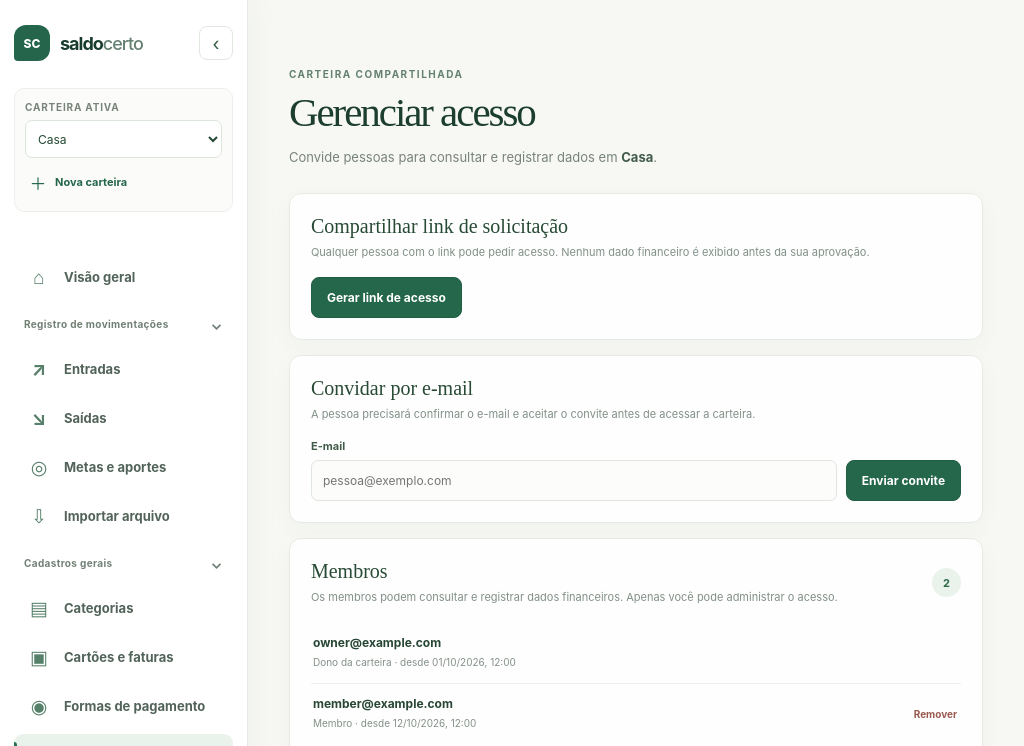
it: wallet sharing management › invites by email and shows pending invites and members
The image size is (1024, 746).
Expected: the text "member@example.com" is shown, x1=313 y1=696 x2=476 y2=711
Step 1. Type "new@example.com" into the field labelled "E-mail" → x=574, y=480, box x1=311 y1=460 x2=837 y2=501
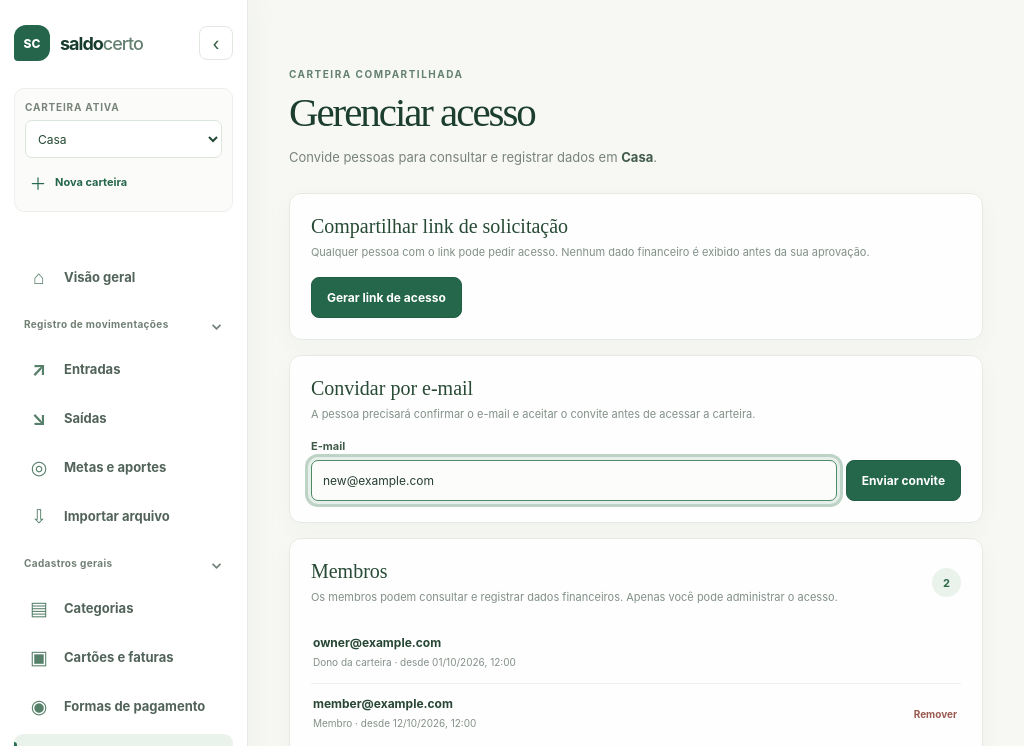
Step 2. Click the button "Enviar convite" → x=903, y=480, box x1=846 y1=460 x2=961 y2=501
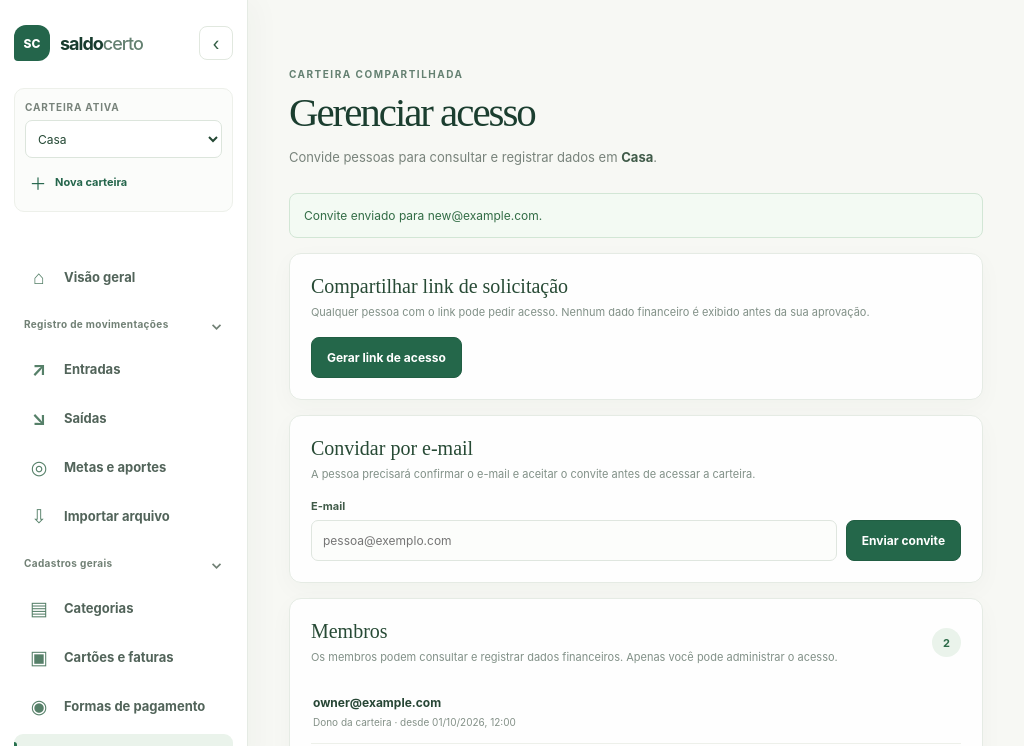
Result: the message reads "Convite enviado para new@example.com." at x1=304 y1=208 x2=542 y2=223
